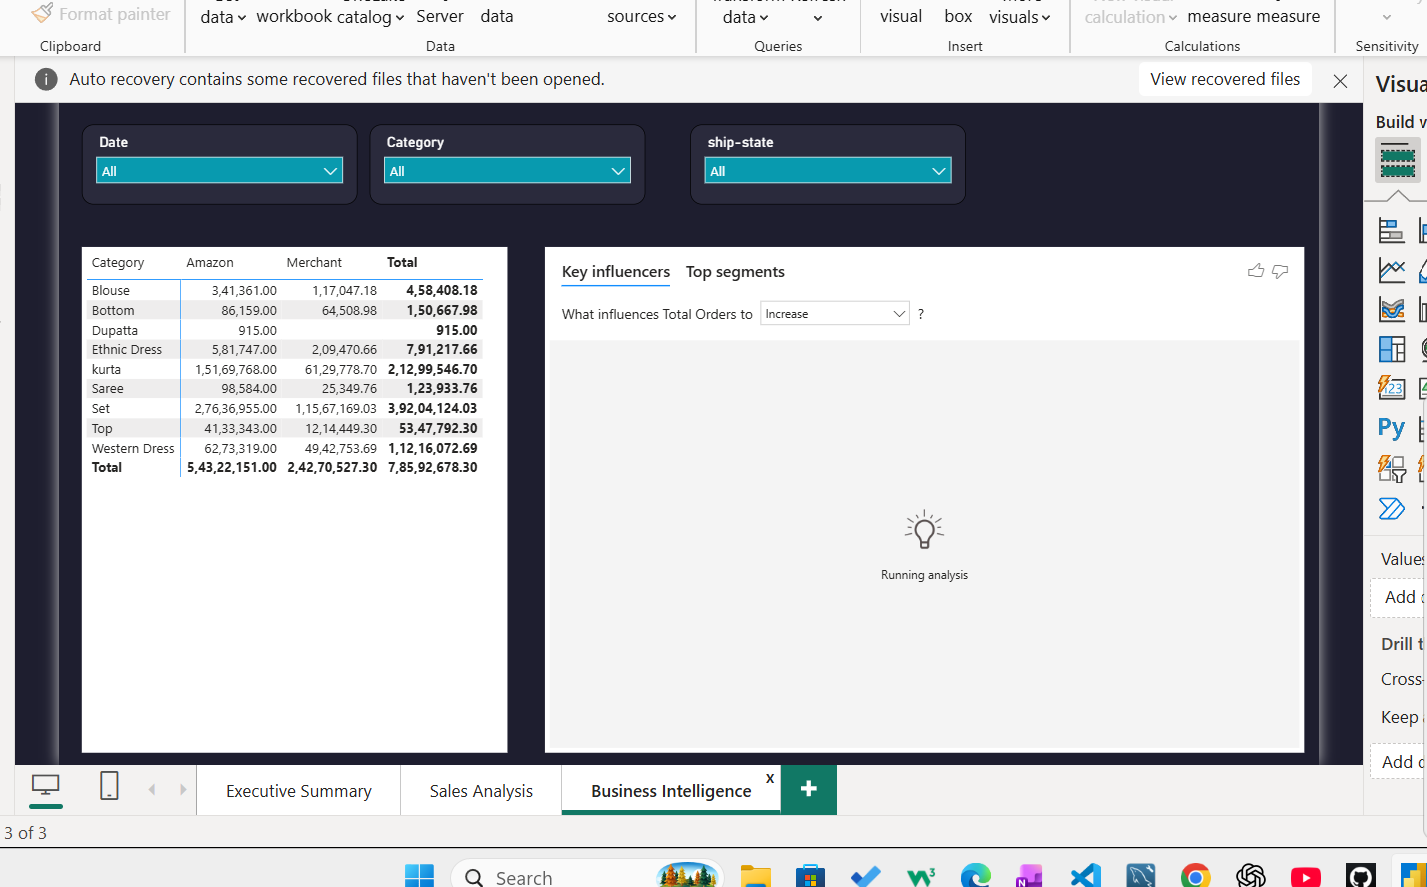

Layout of this report page (visuals, bound fields, positions):
{"tool":"powerbi","page":{"name":"Business Intelligence","canvas":[1280,720],"ordinal":2},"visuals":[{"type":"textbox","box":[10.2,0,1269.5,69.5],"z":0},{"type":"slicer","fields":{"Values":["Cleaned_Amazon_Sale_Report.Date"]},"box":[23.7,69.5,279.7,81.4],"z":1000},{"type":"slicer","fields":{"Values":["Cleaned_Amazon_Sale_Report.Category"]},"box":[315.3,69.5,279.7,81.4],"z":2000},{"type":"slicer","fields":{"Values":["Cleaned_Amazon_Sale_Report.ship-state"]},"box":[640.7,69.5,279.7,81.4],"z":3000},{"type":"keyDriversVisual","fields":{"Target":["Cleaned_Amazon_Sale_Report.Total Orders"],"ExplainBy":["Cleaned_Amazon_Sale_Report.Category","Cleaned_Amazon_Sale_Report.ship-state","Cleaned_Amazon_Sale_Report.Fulfilment","Cleaned_Amazon_Sale_Report.Size","Cleaned_Amazon_Sale_Report.Sales Channel ","Cleaned_Amazon_Sale_Report.B2B"]},"box":[493.2,193.2,771.2,513.6],"z":4000},{"type":"pivotTable","fields":{"Rows":["Cleaned_Amazon_Sale_Report.Category"],"Columns":["Cleaned_Amazon_Sale_Report.Fulfilment"],"Values":["Cleaned_Amazon_Sale_Report.Total Sales"]},"box":[23.7,193.2,432.2,513.6],"z":4001}]}

Visuals, with their boxes on the page's 1280x720 design canvas (x1, y1, x2, y2). These are canvas units, not pixel positions in the 1427x887 screenshot, which may show the page scaled, cropped or inside an application window:
textbox: 10,0,1280,70
slicer - Cleaned_Amazon_Sale_Report.Date: 24,70,303,151
slicer - Cleaned_Amazon_Sale_Report.Category: 315,70,595,151
slicer - Cleaned_Amazon_Sale_Report.ship-state: 641,70,920,151
keyDriversVisual - Cleaned_Amazon_Sale_Report.Total Orders x Cleaned_Amazon_Sale_Report.Category: 493,193,1264,707
pivotTable - Cleaned_Amazon_Sale_Report.Category x Cleaned_Amazon_Sale_Report.Fulfilment: 24,193,456,707
